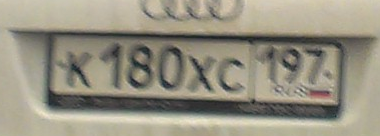character: (156, 44, 186, 93), (126, 44, 155, 93), (98, 41, 126, 91), (63, 51, 96, 92), (215, 56, 248, 96), (186, 53, 216, 95), (279, 45, 305, 87), (304, 44, 326, 88), (257, 44, 279, 83)
